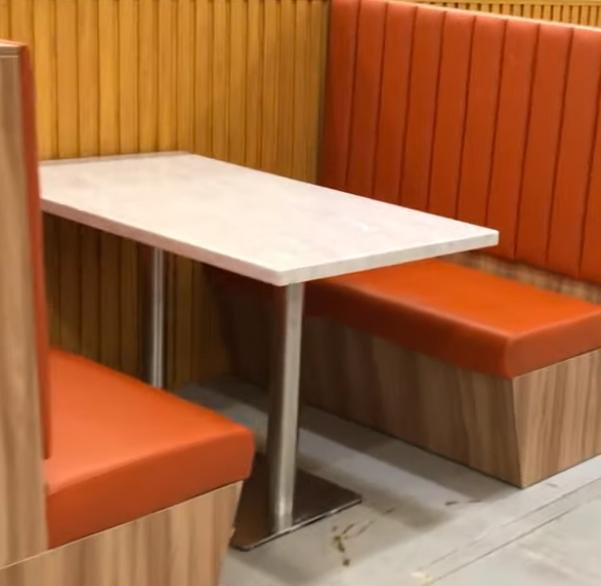Clean Table: (42, 125, 552, 379)
